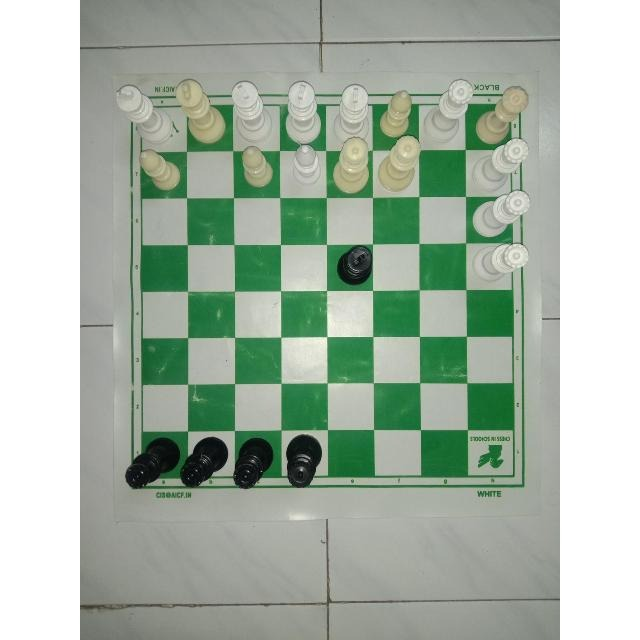black-king: (333, 241, 375, 289)
black-queen: (123, 435, 181, 491), (179, 434, 231, 491), (230, 433, 279, 493), (283, 431, 324, 491)
white-bishop: (135, 147, 183, 194), (378, 89, 418, 141), (287, 142, 327, 188), (240, 142, 276, 190)
white-king: (112, 84, 178, 145), (174, 75, 230, 144), (227, 80, 276, 146), (284, 80, 330, 146), (332, 78, 375, 145)
white-queen: (468, 135, 532, 194), (475, 80, 529, 148), (422, 77, 472, 149), (470, 188, 534, 243), (376, 134, 424, 195), (468, 241, 531, 287), (332, 136, 375, 198)
